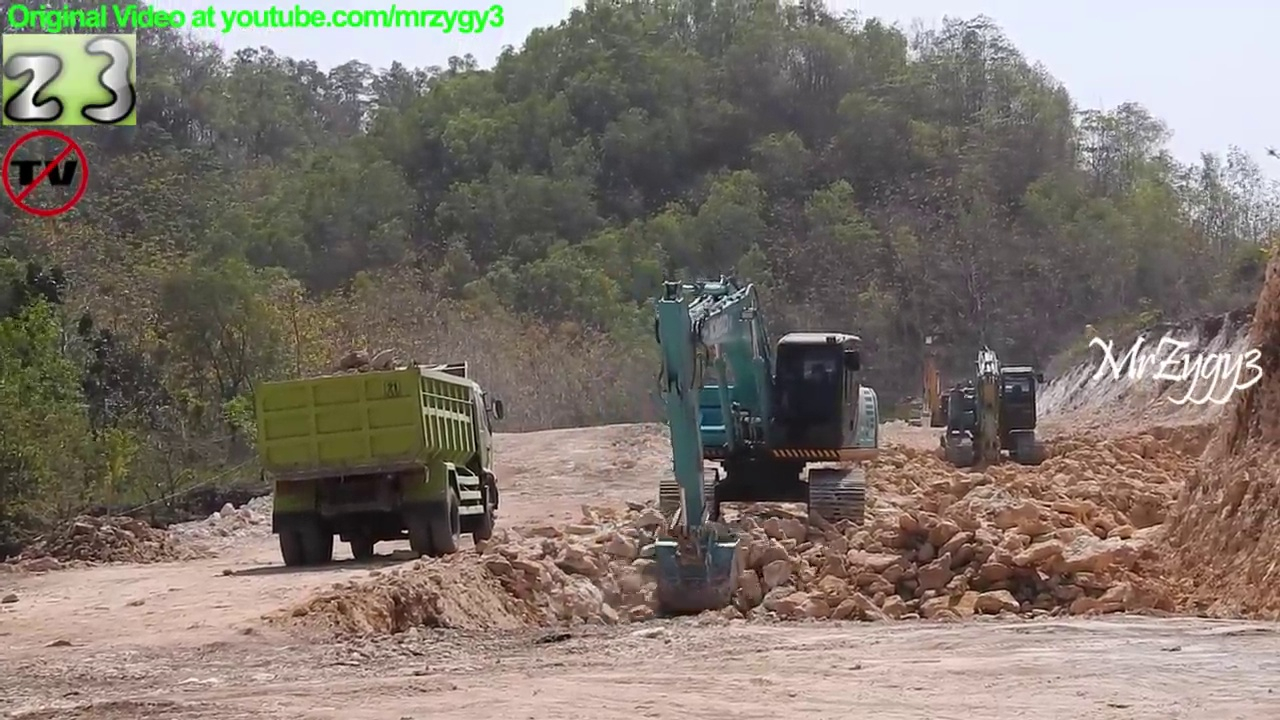excavator: (637, 268, 889, 623), (896, 330, 968, 436)
excavator breaker: (933, 341, 1053, 475)
truck: (251, 355, 510, 572)
